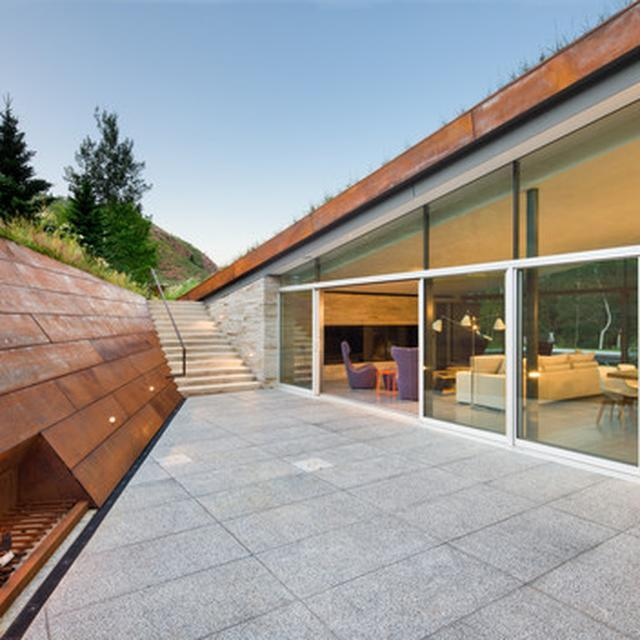building: (191, 0, 640, 479)
